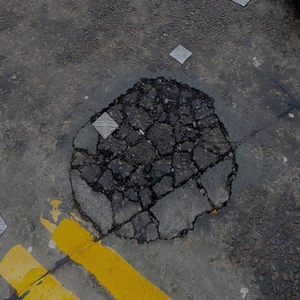pothole: (61, 74, 241, 244)
